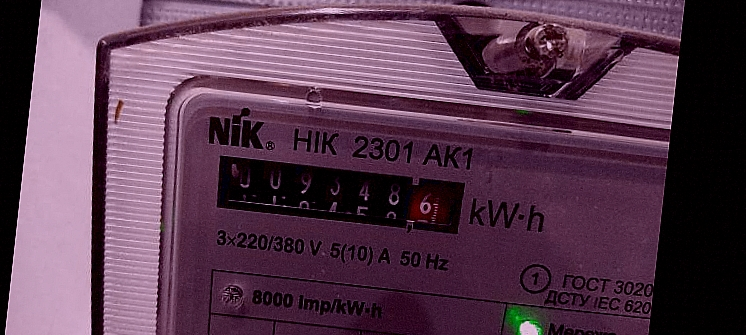0: (235, 163, 254, 191), (266, 163, 283, 191)
3: (327, 171, 344, 197)
4: (353, 172, 375, 204)
6: (415, 187, 435, 218)
8: (385, 179, 403, 208)
9: (297, 170, 314, 198)
screen: (195, 139, 480, 247)
